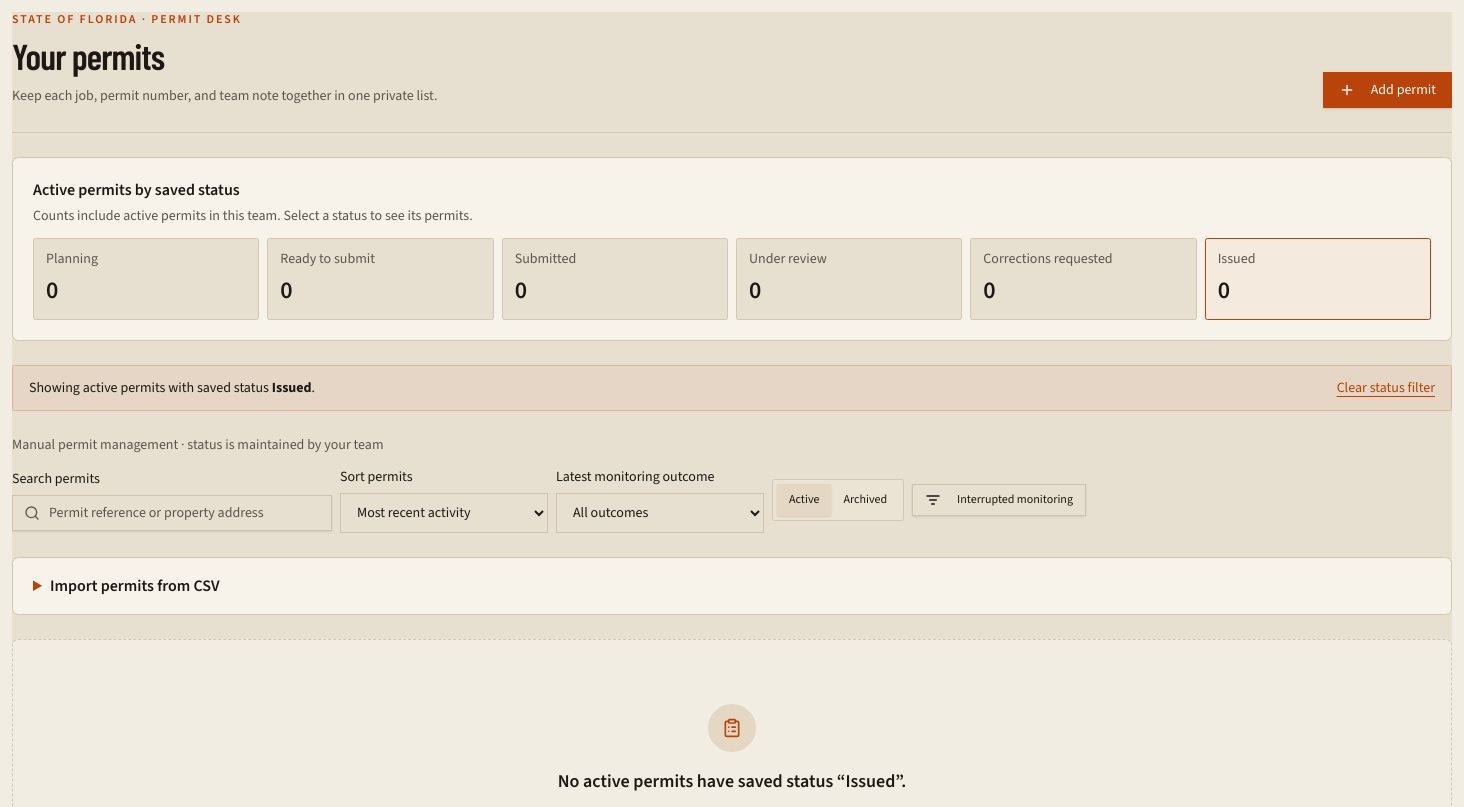
Test: permit workspace first-create flow › keeps filtered and Archived empty states distinct and offers the matching recovery control
Check: the link to "/dashboard?teamId=team-1" reads "Clear status filter", box [1337,378,1435,398]
What coordinates should you click on to do the following:
click the button "Archived"
I would click on:
 (865, 500)
Its box is [831,484,899,516].
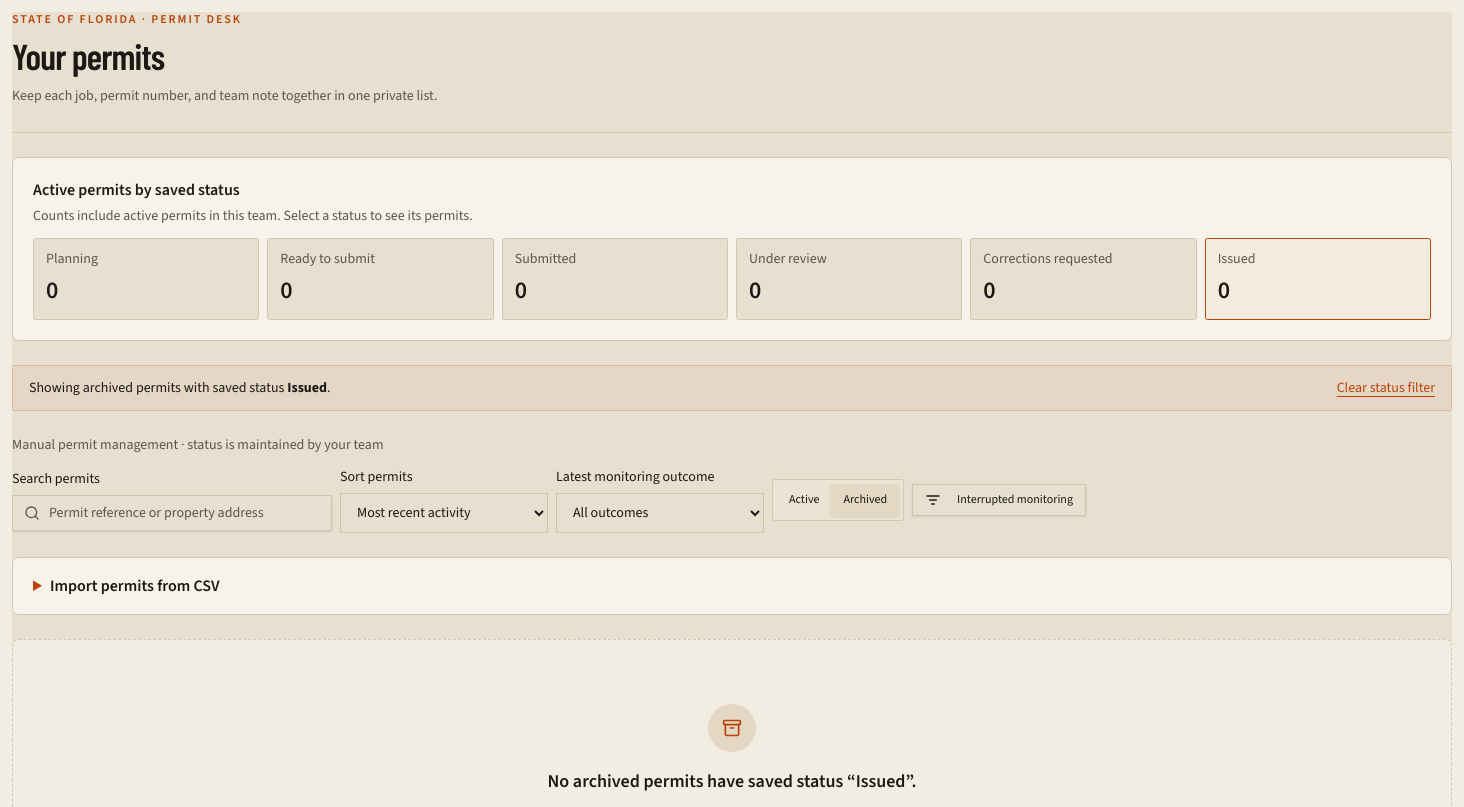
Check: the link to "/dashboard?teamId=team-1" reads "Clear status filter", box [1337,378,1435,398]
Check: the text "No archived permits have saved status “Issued”." is shown, box [548,769,916,794]
